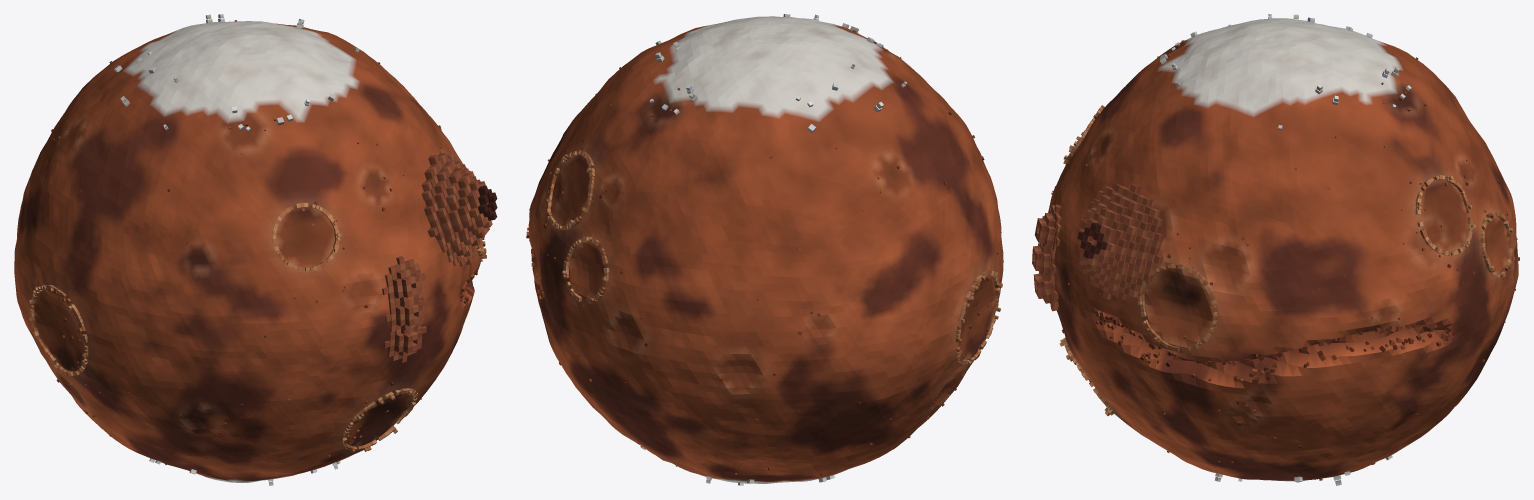
Rendered from planet_mars.glb.
3 views of the same model, side by side, from view 1: azimuth 30°, elevation 25°; view 2: azimuth 150°, elevation 25°; view 3: azimuth 270°, elevation 25° (orthographic). The views are drawn at different scales.
Parts seen in each view (by area): view 1: mars, mars_blocks; view 2: mars, mars_blocks; view 3: mars, mars_blocks.
Boxes of the visible parts, x1,y1,x2,y2 form: mars: [14, 21, 483, 482]; mars_blocks: [28, 14, 497, 485]; mars: [528, 16, 1003, 483]; mars_blocks: [526, 14, 1002, 485]; mars: [1048, 18, 1518, 481]; mars_blocks: [1032, 14, 1519, 485].
Size of the model in its own units: 30.6 by 29.71 by 31.31.
